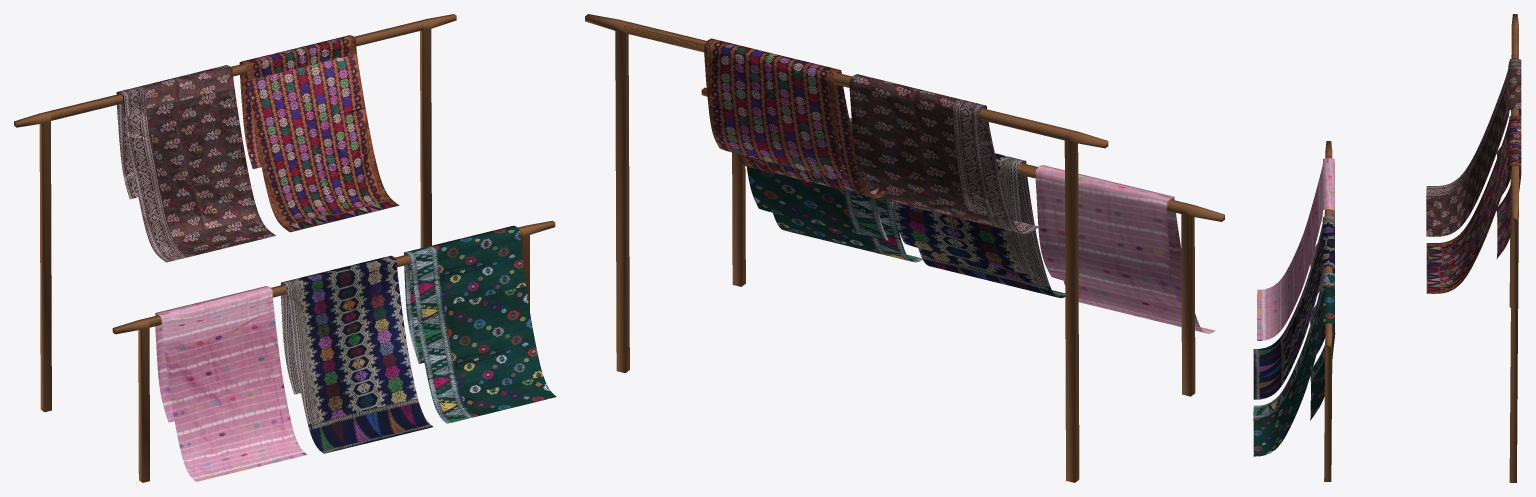
Rendered from songket.glb.
The picture shows the model from 3 angles, left to right: view 1: azimuth 30°, elevation 25°; view 2: azimuth 150°, elevation 25°; view 3: azimuth 270°, elevation 25°; orthographic projection. The views are drawn at different scales.
Parts seen in each view (by area): view 1: obj6, obj7, obj4, obj3, obj2, obj5, obj1; view 2: obj7, obj6, obj2, obj5, obj3, obj4, obj1; view 3: obj6, obj7, obj4, obj3, obj2, obj5, obj1.
Boxes of the visible parts, bbox=[...] form: obj6: bbox=[239, 35, 399, 232]; obj7: bbox=[116, 65, 275, 262]; obj4: bbox=[404, 225, 556, 423]; obj3: bbox=[280, 255, 432, 453]; obj2: bbox=[155, 286, 306, 481]; obj5: bbox=[14, 14, 456, 412]; obj1: bbox=[112, 220, 555, 482]; obj7: bbox=[849, 74, 1038, 234]; obj6: bbox=[704, 38, 885, 198]; obj2: bbox=[1035, 165, 1215, 333]; obj5: bbox=[585, 14, 1108, 482]; obj3: bbox=[892, 153, 1065, 298]; obj4: bbox=[746, 117, 922, 262]; obj1: bbox=[701, 87, 1224, 396]; obj6: bbox=[1426, 115, 1521, 293]; obj7: bbox=[1426, 58, 1521, 236]; obj4: bbox=[1253, 272, 1335, 456]; obj3: bbox=[1253, 215, 1334, 399]; obj2: bbox=[1257, 158, 1334, 340]; obj5: bbox=[1509, 14, 1518, 482]; obj1: bbox=[1324, 141, 1332, 481].
Size of the model in its own units: 4.22 by 2.73 by 2.35.
Materials: 6 (5 with a texture image).
